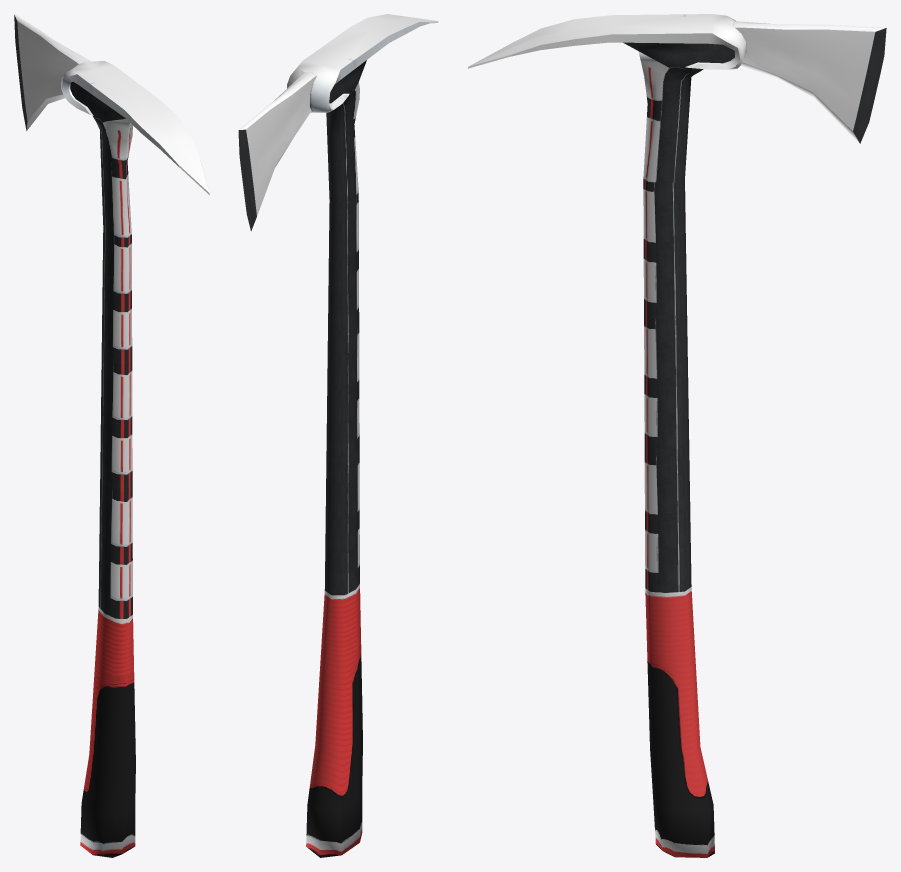
File: vAxe.fbx
3 views of the same model, side by side, from view 1: azimuth 30°, elevation 25°; view 2: azimuth 150°, elevation 25°; view 3: azimuth 270°, elevation 25° (orthographic). The views are drawn at different scales.
Parts seen in each view (by area): view 1: vAxe; view 2: vAxe; view 3: vAxe.
Boxes of the visible parts, <box> form: vAxe: <box>14,14,209,857</box>; vAxe: <box>238,14,438,857</box>; vAxe: <box>467,14,886,857</box>.
Size of the model in its own units: 3.56 by 64.97 by 29.67.
1 material, 1 textured.
